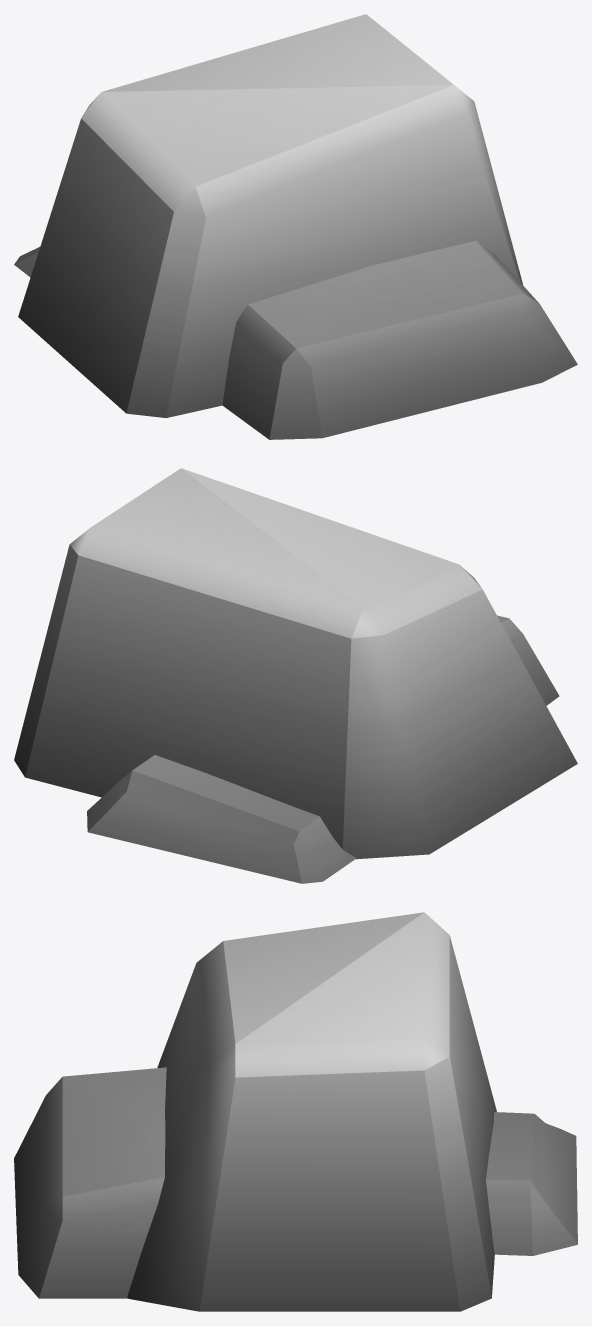
Rendered from Rock02.glb.
The picture shows the model from 3 angles, top to bottom: view 1: azimuth 30°, elevation 25°; view 2: azimuth 150°, elevation 25°; view 3: azimuth 270°, elevation 25°; orthographic projection. The views are drawn at different scales.
Parts seen in each view (by area): view 1: Rock02; view 2: Rock02; view 3: Rock02.
Boxes of the visible parts, left/top/right/bottom form: Rock02: left=14, top=14, right=577, bottom=439; Rock02: left=14, top=468, right=577, bottom=883; Rock02: left=14, top=912, right=577, bottom=1311.
Size of what is drawn, in the model's own units: 0.9825 by 0.516 by 1.08.
1 material, 1 textured.
